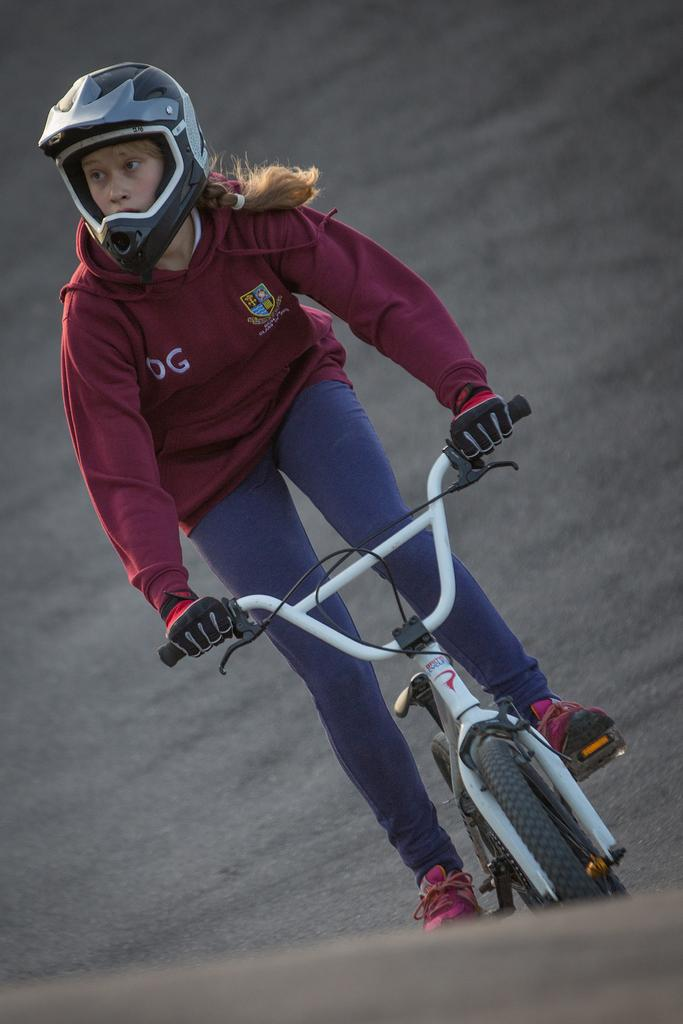helmet: (38, 62, 210, 276)
